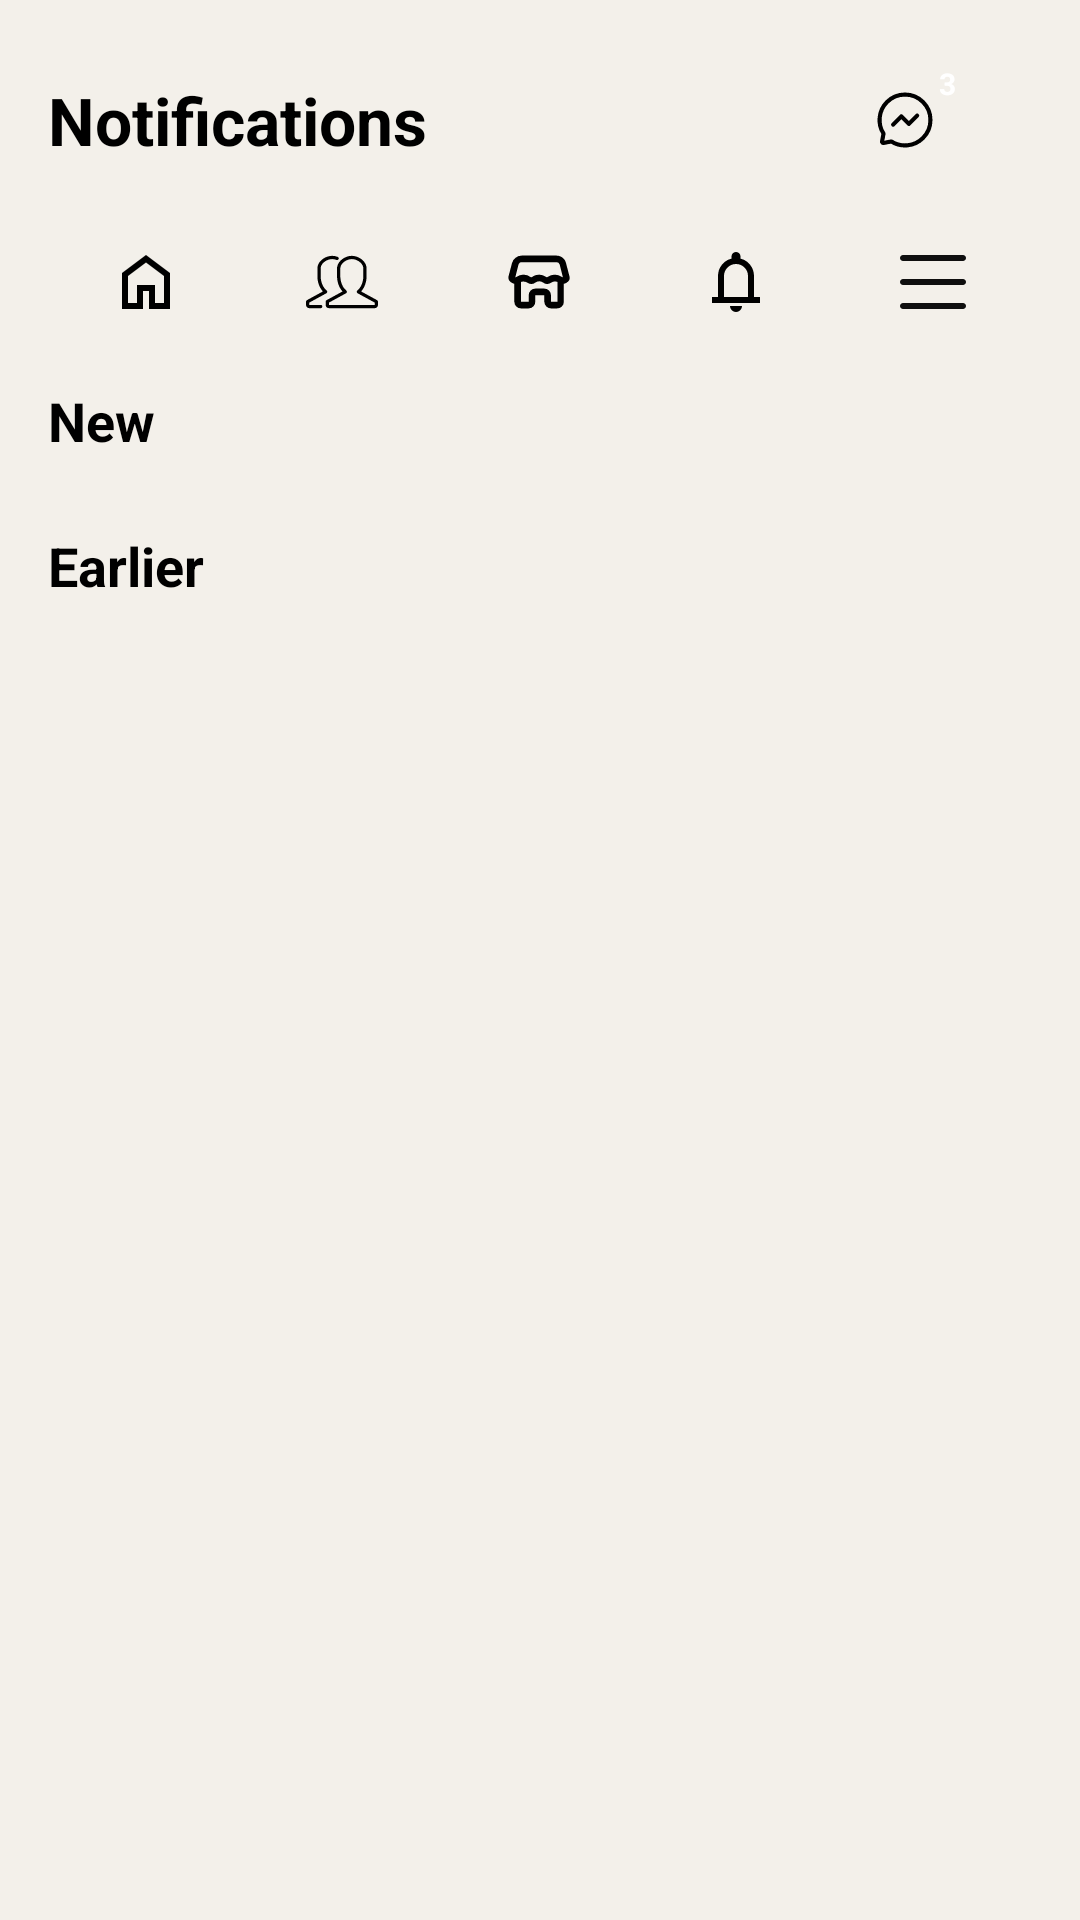

Point at icon controls on the screen. Image size 1080 × 1920, points as (x=x, y=y).
Friends: (x=342, y=282)
Home: (x=146, y=282)
Marketplace: (x=539, y=282)
Menu: (x=933, y=282)
